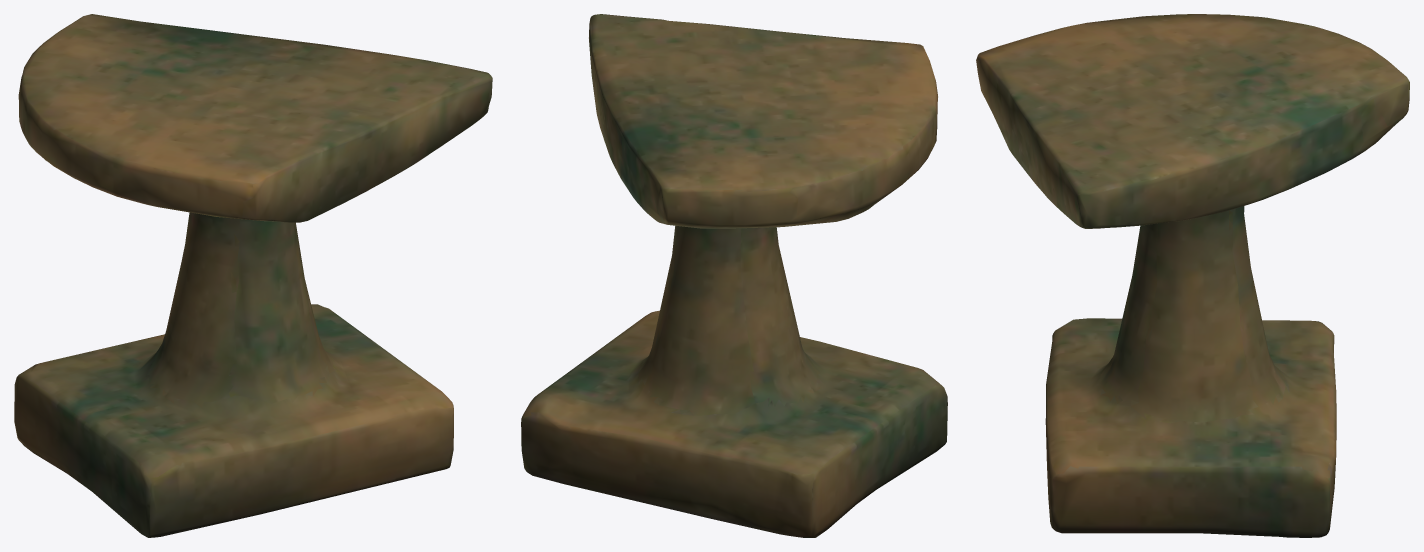
Rendered from ancient-bronze-anvil-v002.glb.
3 views of the same model, side by side, from view 1: azimuth 30°, elevation 25°; view 2: azimuth 150°, elevation 25°; view 3: azimuth 270°, elevation 25° (orthographic). The views are drawn at different scales.
Parts seen in each view (by area): view 1: ancient-bronze-anvil; view 2: ancient-bronze-anvil; view 3: ancient-bronze-anvil.
Part boxes in pixels (x1,y1,x2,y2): ancient-bronze-anvil: (14, 14, 492, 537); ancient-bronze-anvil: (521, 14, 947, 537); ancient-bronze-anvil: (976, 14, 1409, 537).
Size of the model in its own units: 0.7778 by 0.7398 by 0.7739.
1 material, 1 textured.
